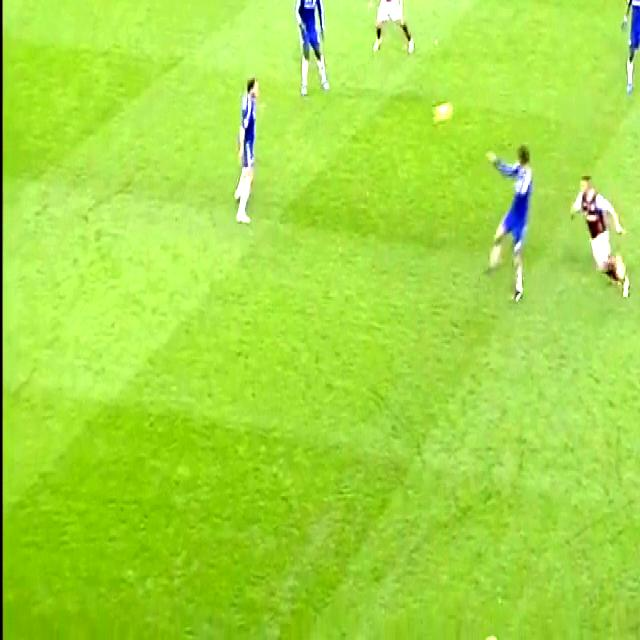ball: (434, 95, 454, 130)
soccer-player: (482, 135, 540, 295), (567, 162, 632, 302), (229, 61, 272, 226), (286, 0, 334, 105), (370, 0, 420, 66), (611, 0, 640, 101)
